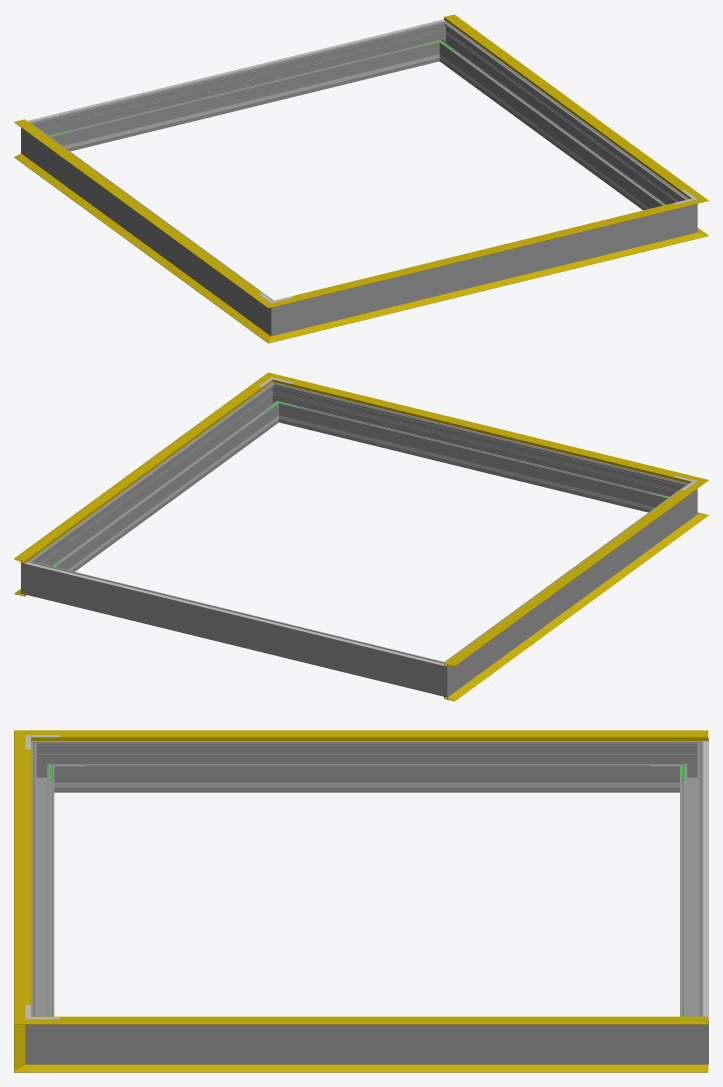
3 renders of one model, top to bottom at view 1: azimuth 30°, elevation 25°; view 2: azimuth 150°, elevation 25°; view 3: azimuth 270°, elevation 25°, orthographic. The views are drawn at different scales.
Parts seen in each view (by area): view 1: 3DGeom-276, 3DGeom-298, 3DGeom-297, 3DGeom-268, 3DGeom-28, 3DGeom-145, 3DGeom-38, 3DGeom-141, 3DGeom-147, 3DGeom-244, 3DGeom-220, 3DGeom-270 (+6 smaller); view 2: 3DGeom-298, 3DGeom-276, 3DGeom-297, 3DGeom-268, 3DGeom-141, 3DGeom-145, 3DGeom-38, 3DGeom-147, 3DGeom-239, 3DGeom-278, 3DGeom-220, 3DGeom-158 (+5 smaller); view 3: 3DGeom-268, 3DGeom-297, 3DGeom-147, 3DGeom-30, 3DGeom-276, 3DGeom-298, 3DGeom-145, 3DGeom-232, 3DGeom-141, 3DGeom-152, 3DGeom-154, 3DGeom-220 (+5 smaller).
Part boxes in pixels (<box>): 3DGeom-276: <box>45,25,435,151</box>; 3DGeom-298: <box>293,209,675,330</box>; 3DGeom-297: <box>441,28,681,210</box>; 3DGeom-268: <box>33,130,265,326</box>; 3DGeom-28: <box>286,236,686,337</box>; 3DGeom-145: <box>444,14,695,195</box>; 3DGeom-38: <box>14,153,262,333</box>; 3DGeom-141: <box>286,203,686,302</box>; 3DGeom-147: <box>14,120,262,298</box>; 3DGeom-244: <box>71,59,418,147</box>; 3DGeom-220: <box>27,19,445,122</box>; 3DGeom-270: <box>258,294,293,336</box>; 3DGeom-298: <box>282,386,673,512</box>; 3DGeom-276: <box>43,565,428,691</box>; 3DGeom-297: <box>37,389,276,571</box>; 3DGeom-268: <box>453,491,684,687</box>; 3DGeom-141: <box>284,378,686,481</box>; 3DGeom-145: <box>14,381,266,563</box>; 3DGeom-38: <box>444,520,695,701</box>; 3DGeom-147: <box>444,487,695,666</box>; 3DGeom-239: <box>300,420,647,508</box>; 3DGeom-278: <box>425,656,459,697</box>; 3DGeom-220: <box>24,562,443,665</box>; 3DGeom-158: <box>291,382,674,476</box>; 3DGeom-268: <box>60,741,674,792</box>; 3DGeom-297: <box>60,1024,674,1064</box>; 3DGeom-147: <box>48,730,708,740</box>; 3DGeom-30: <box>48,1064,708,1072</box>; 3DGeom-276: <box>680,753,703,1016</box>; 3DGeom-298: <box>31,753,54,1016</box>; 3DGeom-145: <box>48,1016,708,1024</box>; 3DGeom-232: <box>87,782,646,787</box>; 3DGeom-141: <box>14,745,25,1009</box>; 3DGeom-152: <box>60,1017,708,1019</box>; 3DGeom-154: <box>60,735,708,737</box>; 3DGeom-220: <box>703,740,708,1020</box>.
Size of the model in its own units: 3.05 by 0.2357 by 3.05.
